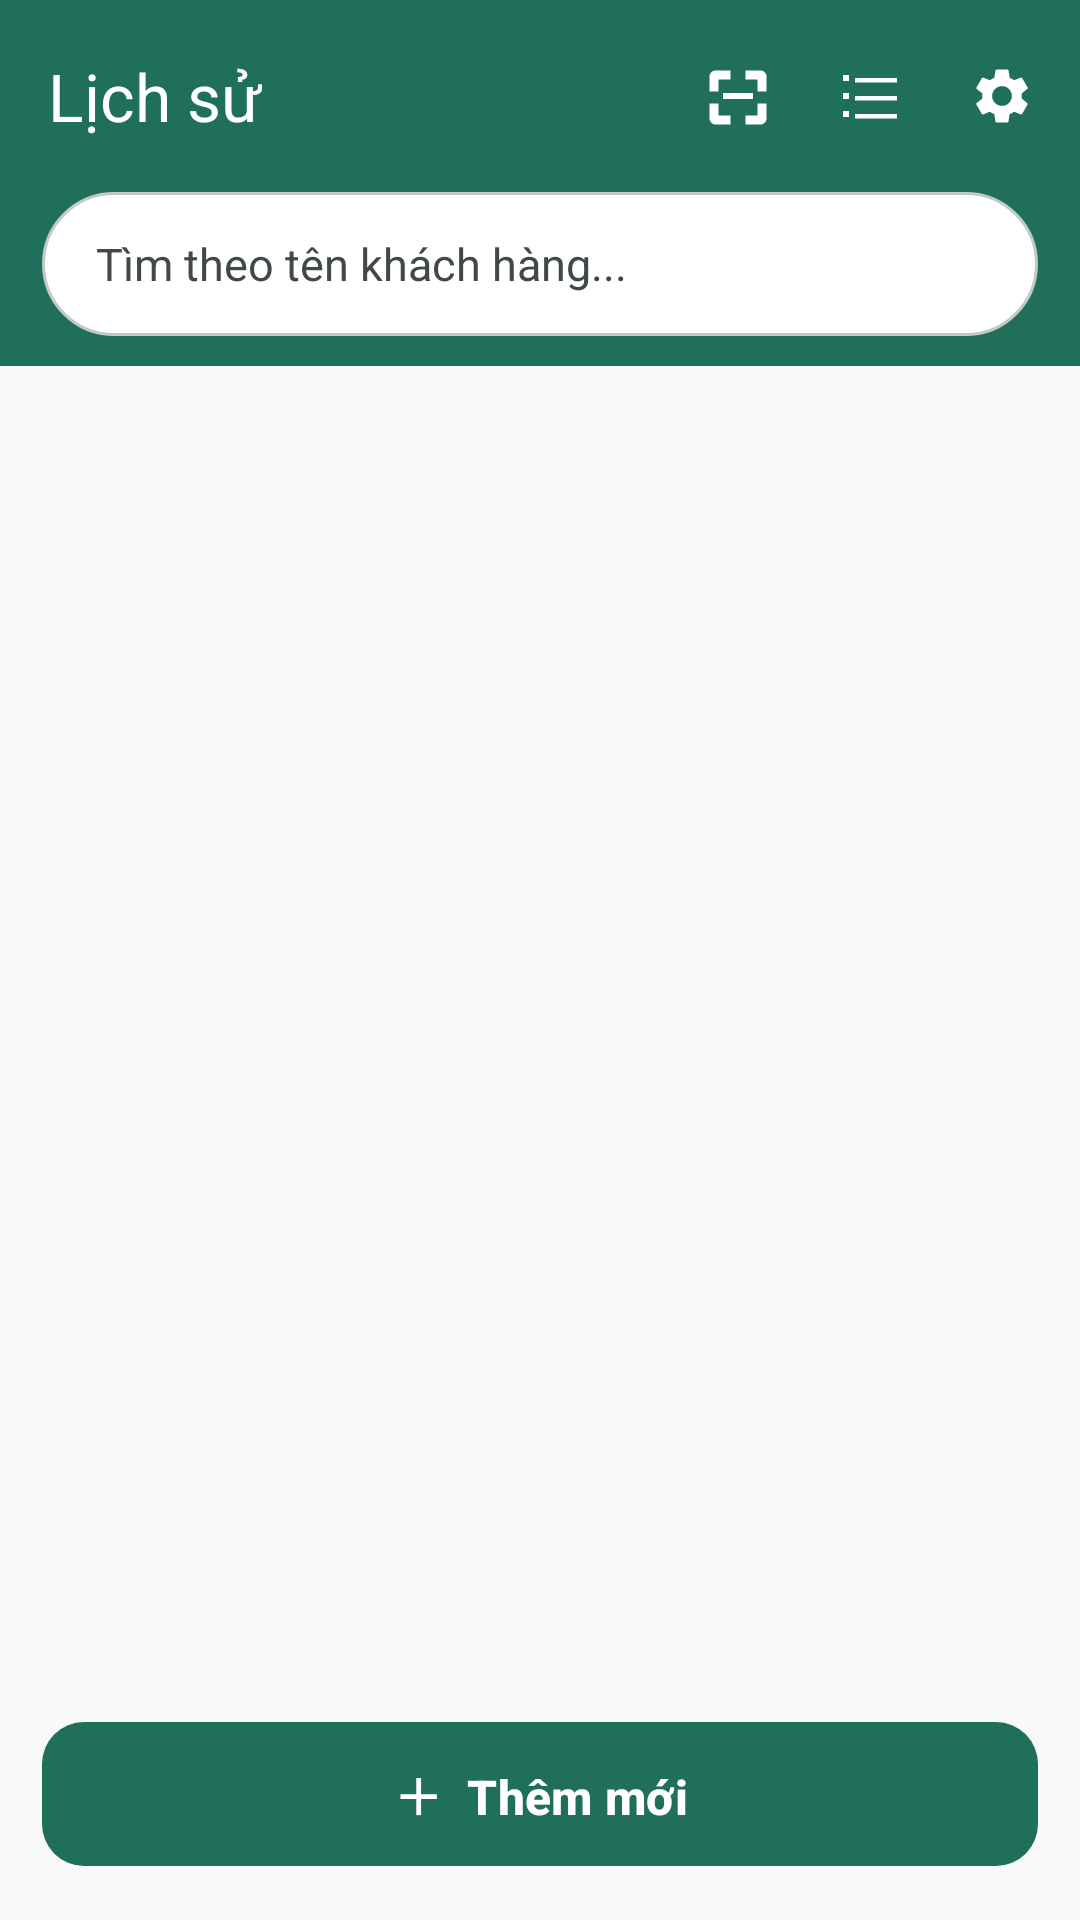

Where to tap for icons on this 1080w x 1920h app screen, as (x,y):
Quét mã QR: (738,97)
